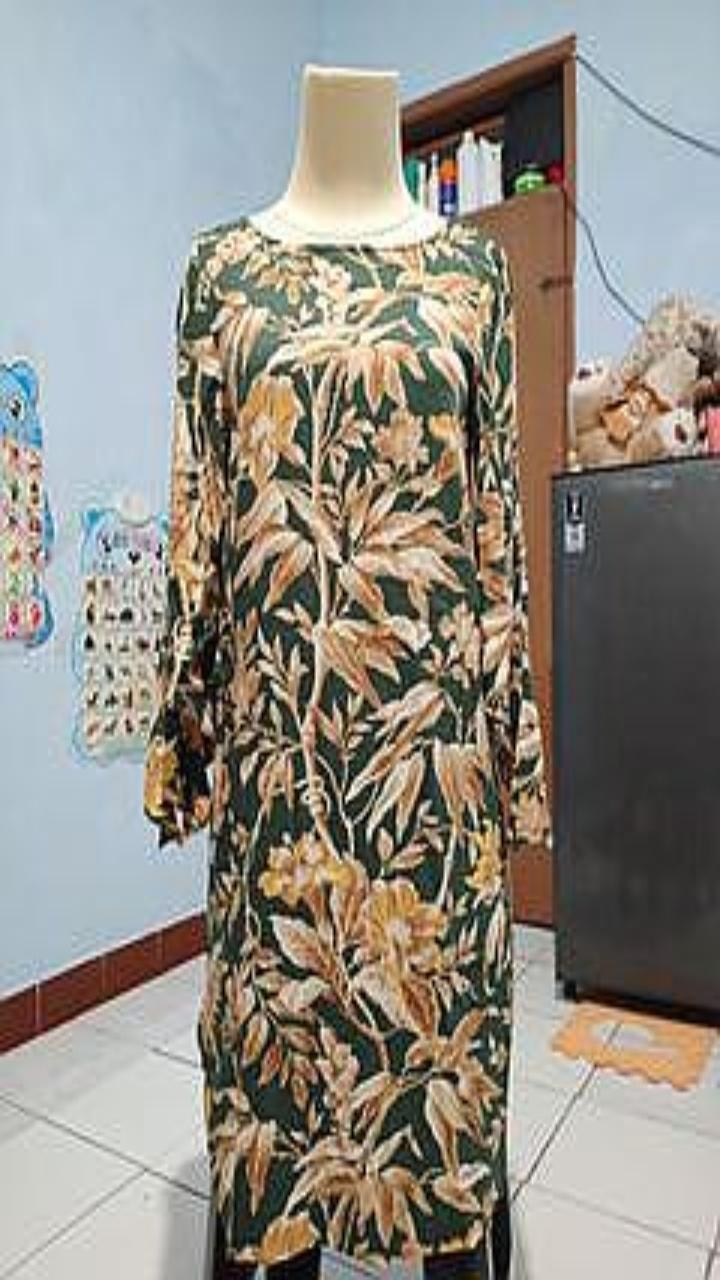Dresses: (145, 218, 547, 1264)
